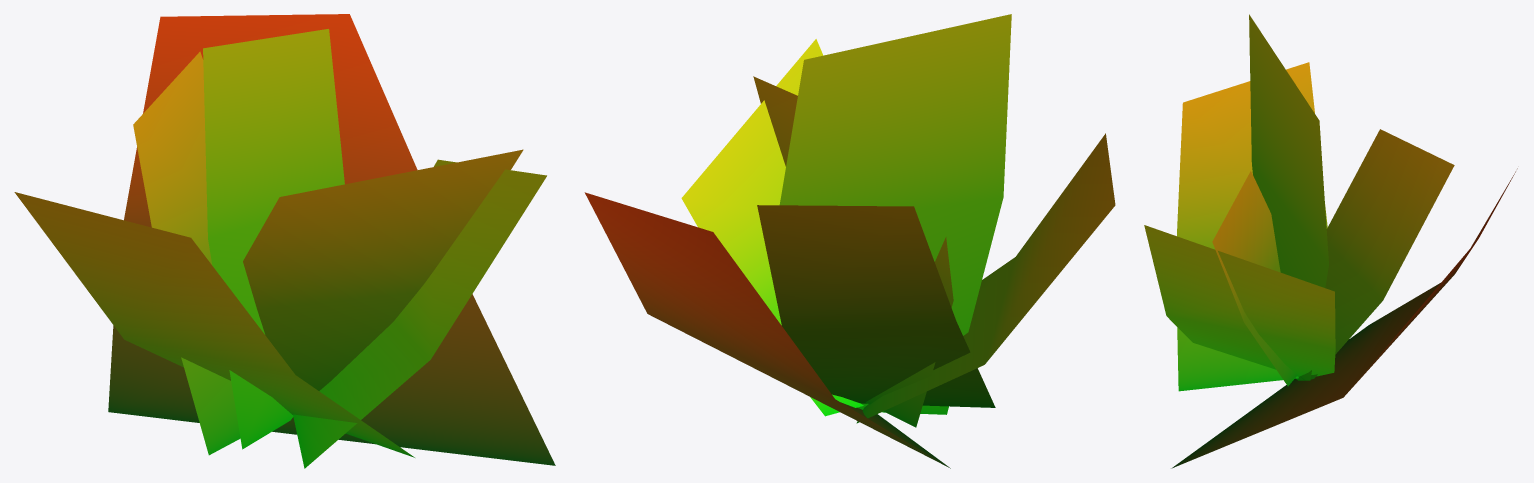
The model's file is Seaweed_LOD1_Var9_sdpjN.fbx.
3 renders of one model, left to right at view 1: azimuth 30°, elevation 25°; view 2: azimuth 150°, elevation 25°; view 3: azimuth 270°, elevation 25°, orthographic. The views are drawn at different scales.
Parts seen in each view (by area): view 1: _d323_Var9_LOD1; view 2: _d323_Var9_LOD1; view 3: _d323_Var9_LOD1.
Part boxes in pixels (<box>): _d323_Var9_LOD1: <box>14,14,555,468</box>; _d323_Var9_LOD1: <box>584,14,1115,468</box>; _d323_Var9_LOD1: <box>1144,14,1517,468</box>.
Bounding box in the file's own units: 12.93 × 11.89 × 11.79.
